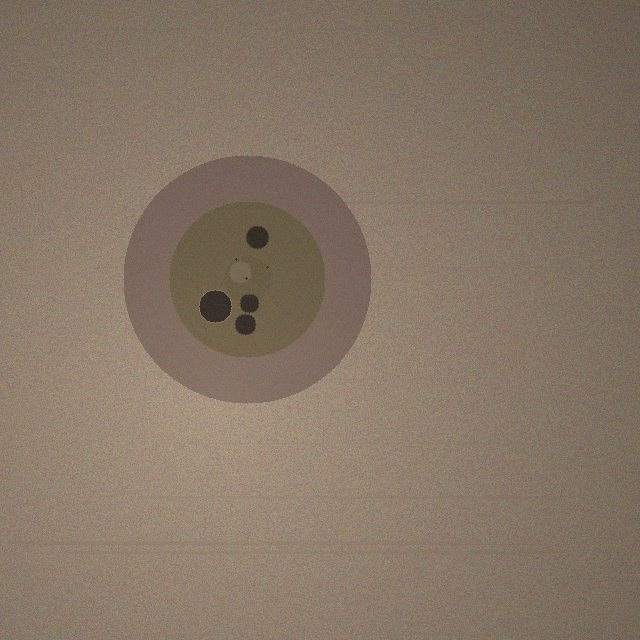shrinkage: (123, 155, 371, 403)
